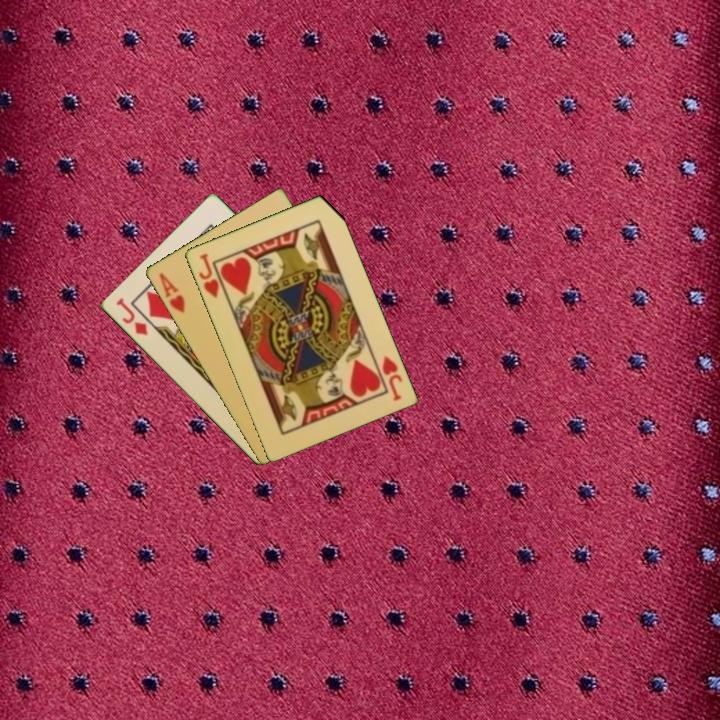Ah: (155, 269, 188, 316)
Jd: (112, 294, 151, 339)
Jh: (195, 249, 222, 301), (378, 352, 405, 403)
